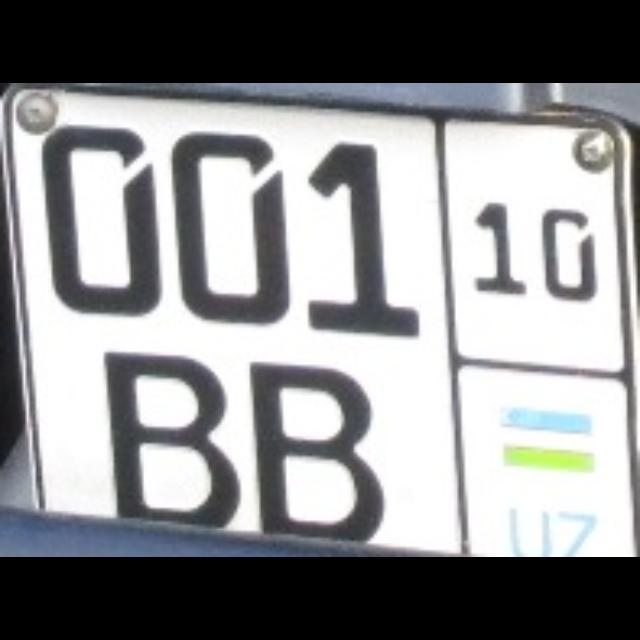0: (35, 119, 158, 314), (170, 125, 292, 317), (540, 204, 594, 300)
1: (298, 134, 426, 340), (472, 197, 526, 291)
B: (240, 356, 384, 544), (98, 343, 246, 525)
